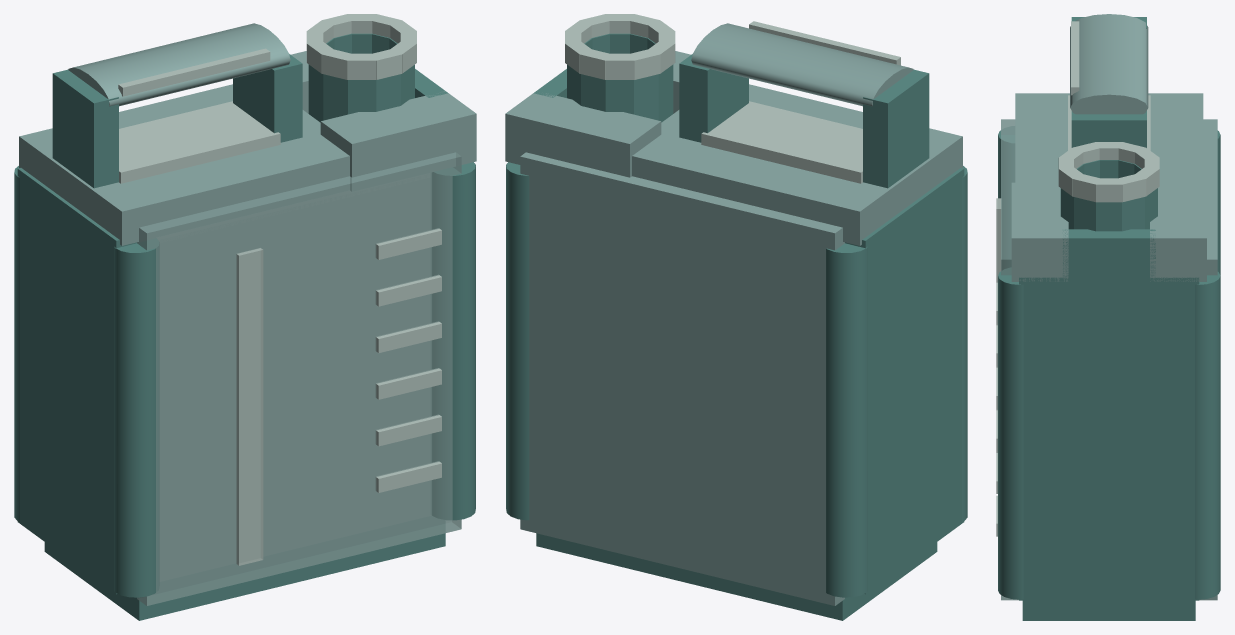
The model's file is CMU3DReagentJugFill5StudyCloud.glb.
The picture shows the model from 3 angles, left to right: view 1: azimuth 30°, elevation 25°; view 2: azimuth 150°, elevation 25°; view 3: azimuth 270°, elevation 25°; orthographic projection. The views are drawn at different scales.
Parts seen in each view (by area): view 1: front translucent jug wall, left molded jug wall, rounded canister corner (×3), jug shoulder left deck, jug shoulder front around spout, front vertical molding, handle inner lower ledge, handle rounded bridge, handle left upright, closed molded jug floor, handle right upright, handle top glint (+13 smaller); view 2: back molded jug wall, left molded jug wall, rounded canister corner (×3), jug shoulder left deck, handle rounded bridge, jug shoulder rear around spout, handle inner lower ledge, handle left upright, closed molded jug floor, handle right upright, handle top glint, hollow pouring neck 06 (+6 smaller); view 3: right molded jug wall, rounded canister corner (×4), jug shoulder left deck, handle rounded bridge, jug shoulder front around spout, jug shoulder rear around spout, jug shoulder right around spout, closed molded jug floor, handle right upright, back molded jug wall, front translucent jug wall, hollow pouring neck 01 (+16 smaller).
Boxes of the visible parts, box(x1,y1,x2,y2) form: front translucent jug wall: box(137, 152, 461, 605); left molded jug wall: box(17, 168, 137, 594); rounded canister corner (×3): box(14, 162, 475, 597); jug shoulder left deck: box(19, 84, 349, 245); jug shoulder front around spout: box(320, 91, 476, 191); front vertical molding: box(236, 248, 263, 565); handle inner lower ledge: box(119, 101, 280, 183); handle rounded bridge: box(68, 23, 290, 106); handle left upright: box(52, 69, 118, 188); closed molded jug floor: box(44, 533, 445, 620); handle right upright: box(233, 54, 302, 142); handle top glint: box(118, 48, 270, 96); back molded jug wall: box(520, 152, 844, 605); left molded jug wall: box(845, 168, 964, 594); rounded canister corner (×3): box(506, 162, 967, 597); jug shoulder left deck: box(632, 84, 962, 245); handle rounded bridge: box(691, 23, 913, 106); jug shoulder rear around spout: box(505, 93, 661, 177); handle inner lower ledge: box(701, 101, 862, 183); handle left upright: box(863, 69, 929, 188); closed molded jug floor: box(536, 533, 937, 620); handle right upright: box(679, 54, 748, 142); handle top glint: box(749, 21, 900, 65); hollow pouring neck 06: box(634, 74, 658, 120); right molded jug wall: box(1019, 277, 1199, 600); rounded canister corner (×4): box(998, 130, 1220, 599); jug shoulder left deck: box(1015, 93, 1203, 182); handle rounded bridge: box(1070, 14, 1148, 114); jug shoulder front around spout: box(1011, 182, 1068, 281); jug shoulder rear around spout: box(1150, 182, 1206, 281); jug shoulder right around spout: box(1062, 229, 1155, 281); closed molded jug floor: box(1022, 600, 1195, 620); handle right upright: box(1071, 111, 1146, 147); back molded jug wall: box(1199, 119, 1217, 600); front translucent jug wall: box(1001, 119, 1018, 600); hollow pouring neck 01: box(1096, 202, 1121, 231).
Size of the model in its own units: 0.502 by 0.688 by 0.298.
